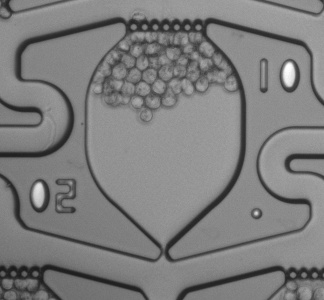AptNum: (245, 52, 307, 97)
Marker: (242, 199, 272, 226)
StNum: (23, 173, 85, 223)
Trap: (143, 250, 187, 292)
